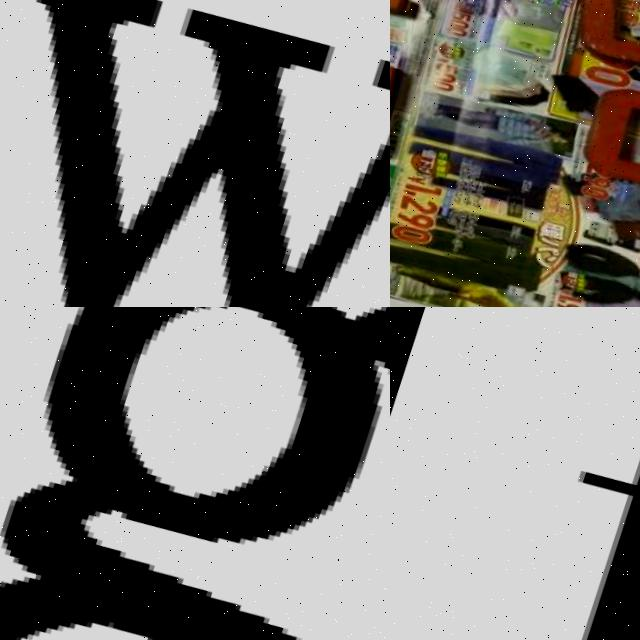F: (454, 307, 640, 640)
G: (0, 307, 390, 640)
O: (562, 78, 640, 220)
U: (562, 0, 640, 107)
W: (0, 0, 390, 307)
